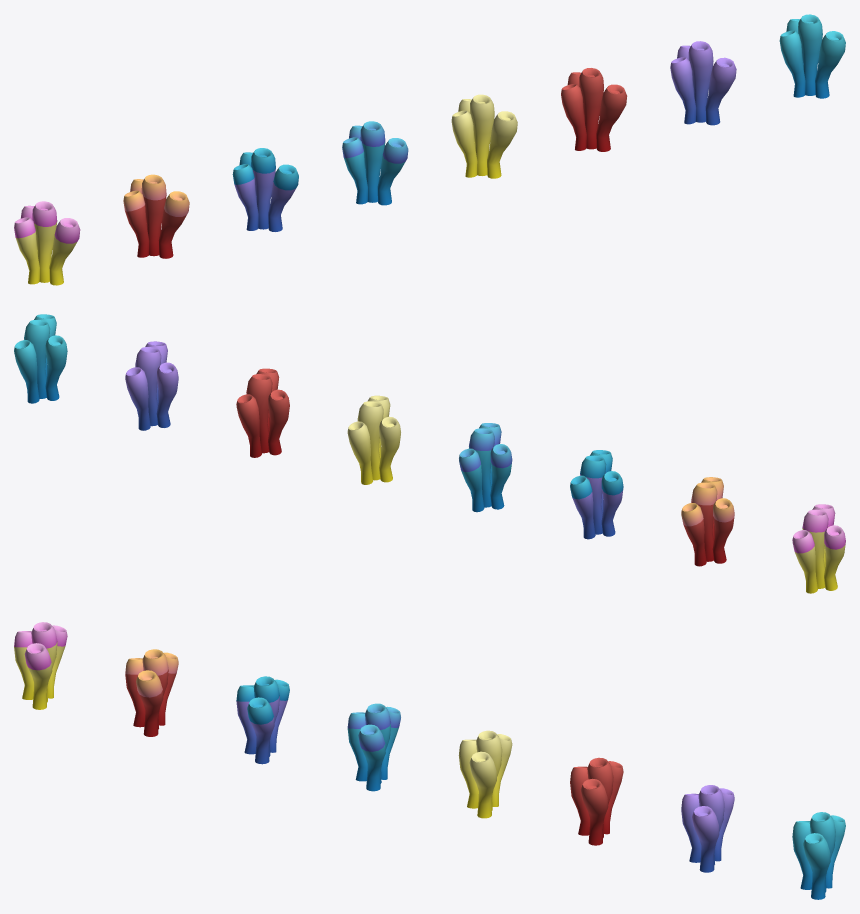
Rendered from CoralReefSet1.fbx.
3 views of the same model, one above another, from view 1: azimuth 30°, elevation 25°; view 2: azimuth 150°, elevation 25°; view 3: azimuth 330°, elevation 25° (orthographic).
Visible parts, largest first — view 1: A_CoralReef.004, A_CoralReef, A_CoralReef.005, A_CoralReef.001, A_CoralReef.007, A_CoralReef.006, A_CoralReef.003, A_CoralReef.002; view 2: A_CoralReef.004, A_CoralReef.005, A_CoralReef.006, A_CoralReef.007, A_CoralReef.002, A_CoralReef.001, A_CoralReef, A_CoralReef.003; view 3: A_CoralReef.007, A_CoralReef.005, A_CoralReef.004, A_CoralReef, A_CoralReef.006, A_CoralReef.001, A_CoralReef.002, A_CoralReef.003.
Boxes of the visible parts, x1=… form: A_CoralReef.004: x1=670, y1=41, x2=736, y2=125; A_CoralReef: x1=342, y1=121, x2=408, y2=205; A_CoralReef.005: x1=123, y1=174, x2=189, y2=258; A_CoralReef.001: x1=451, y1=94, x2=517, y2=178; A_CoralReef.007: x1=232, y1=148, x2=298, y2=231; A_CoralReef.006: x1=779, y1=14, x2=845, y2=98; A_CoralReef.003: x1=14, y1=201, x2=80, y2=285; A_CoralReef.002: x1=561, y1=68, x2=627, y2=151; A_CoralReef.004: x1=125, y1=341, x2=178, y2=430; A_CoralReef.005: x1=681, y1=477, x2=734, y2=566; A_CoralReef.006: x1=14, y1=314, x2=67, y2=403; A_CoralReef.007: x1=570, y1=450, x2=623, y2=539; A_CoralReef.002: x1=236, y1=368, x2=289, y2=457; A_CoralReef.001: x1=347, y1=395, x2=400, y2=484; A_CoralReef: x1=459, y1=423, x2=512, y2=512; A_CoralReef.003: x1=792, y1=504, x2=845, y2=593; A_CoralReef.007: x1=236, y1=676, x2=289, y2=764; A_CoralReef.005: x1=125, y1=649, x2=178, y2=736; A_CoralReef.004: x1=681, y1=785, x2=734, y2=872; A_CoralReef: x1=347, y1=703, x2=400, y2=791; A_CoralReef.006: x1=792, y1=812, x2=845, y2=899; A_CoralReef.001: x1=458, y1=730, x2=512, y2=818; A_CoralReef.002: x1=570, y1=757, x2=623, y2=845; A_CoralReef.003: x1=14, y1=622, x2=67, y2=709.
Bounding box in the file's own units: 744 × 65.18 × 62.35.
1 material, 1 textured.
